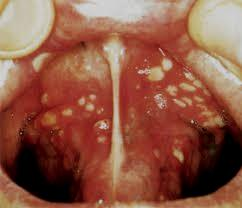Ulcer: (141, 56, 228, 127), (31, 88, 112, 146), (161, 139, 193, 169)
